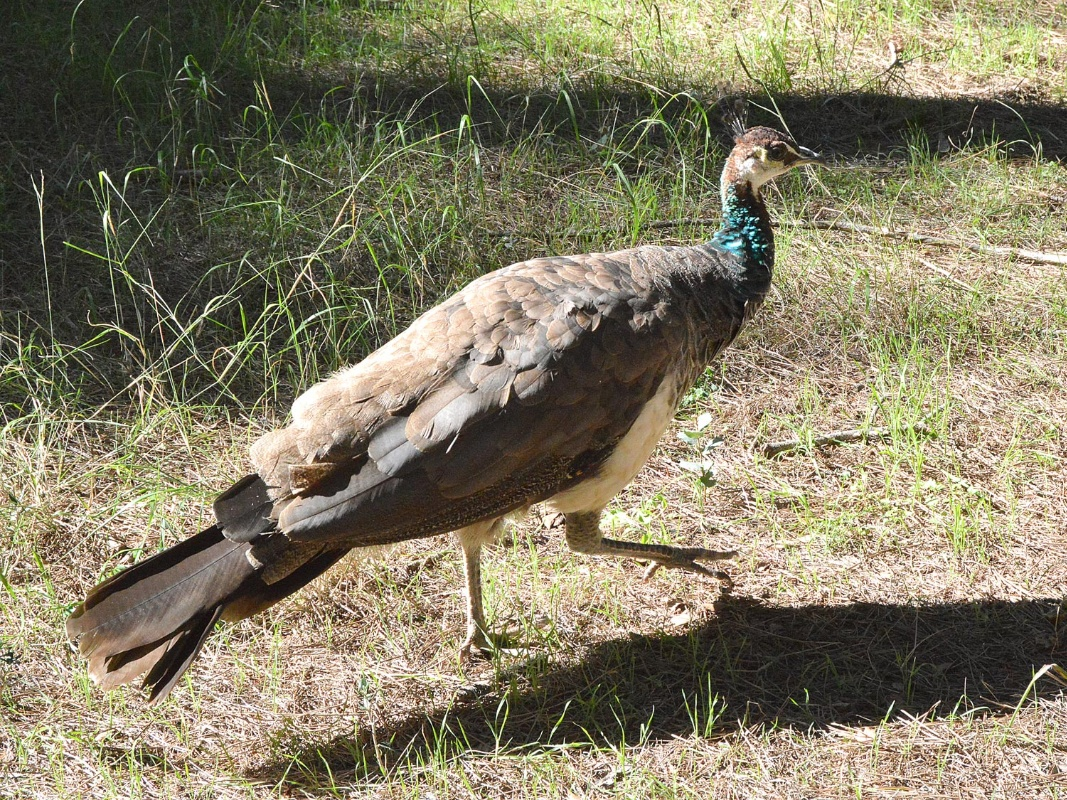pavoreal: (117, 106, 829, 634)
